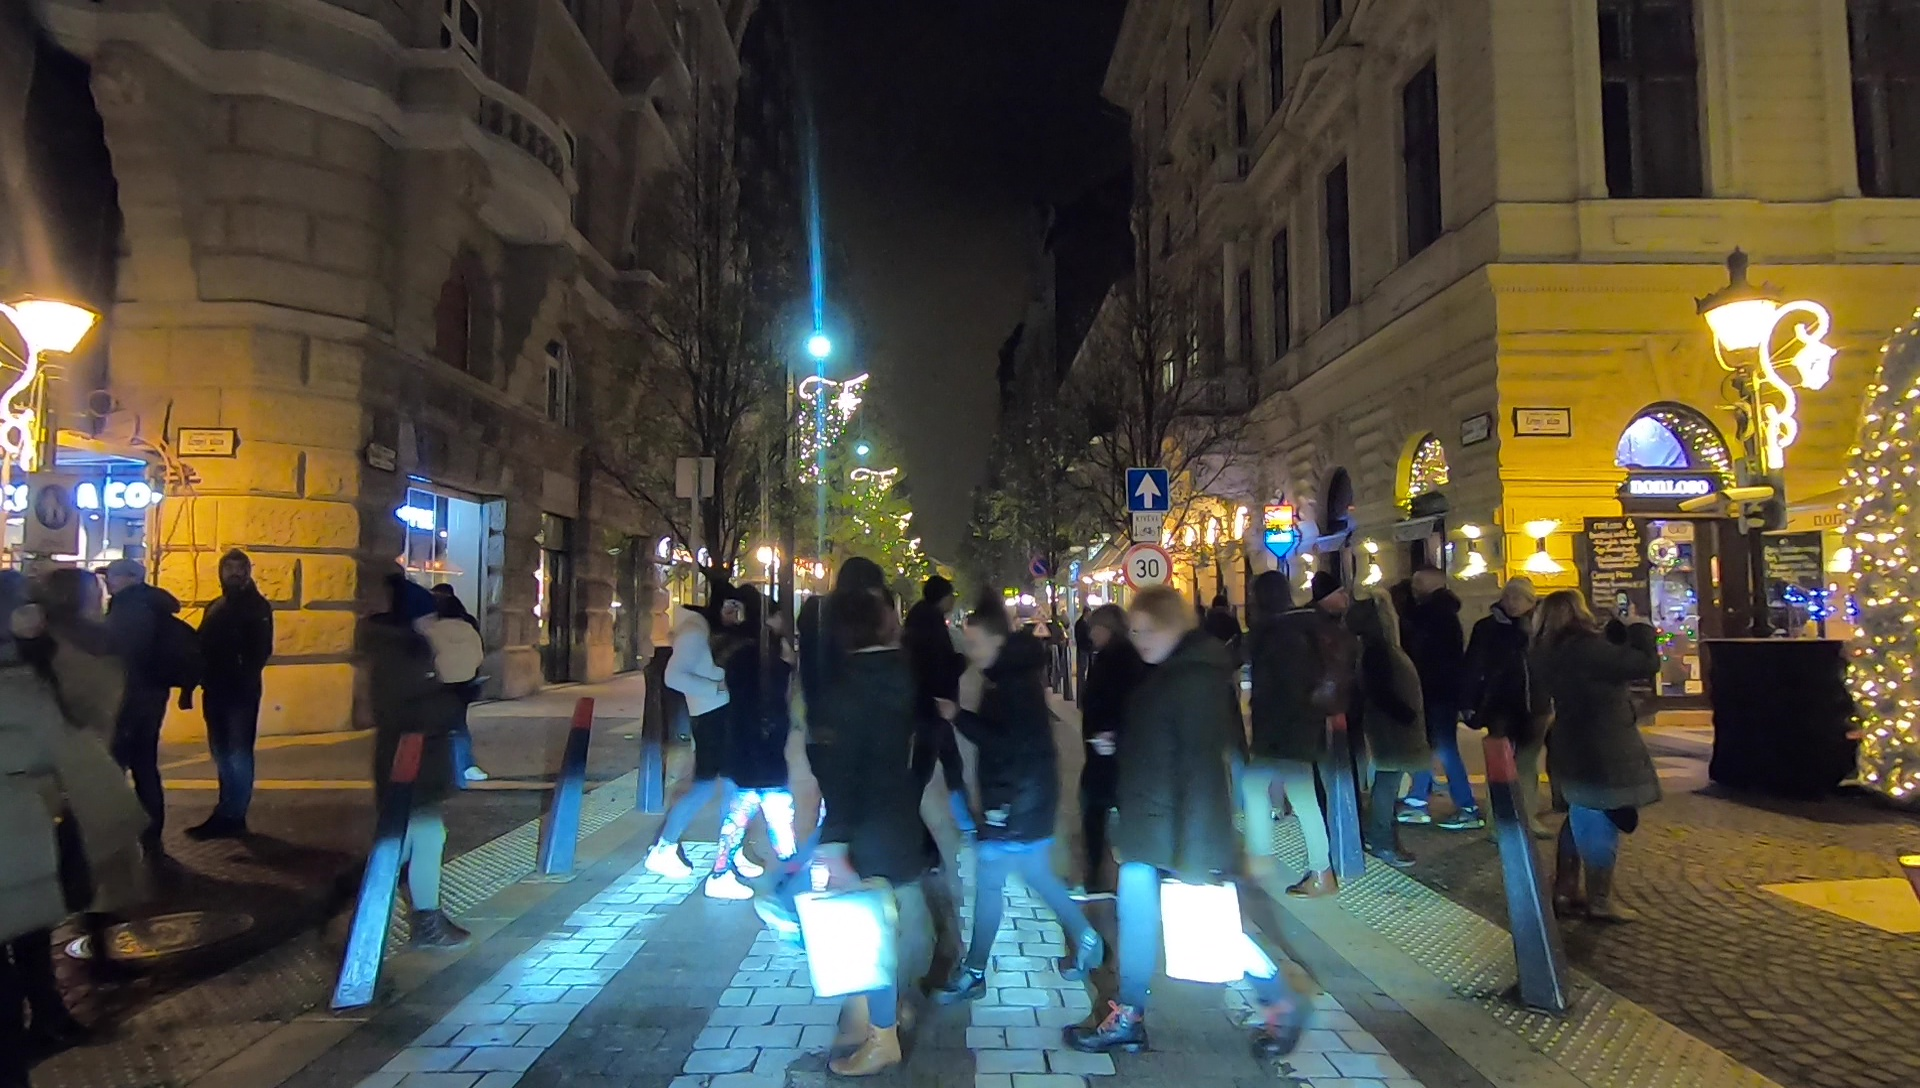person: (1086, 604, 1308, 1054), (934, 600, 1106, 991), (804, 582, 914, 1074), (1538, 593, 1654, 923), (371, 586, 467, 947), (1232, 574, 1334, 906), (692, 596, 808, 873), (658, 610, 765, 882), (39, 571, 121, 911), (101, 565, 195, 858), (1, 575, 56, 999), (197, 554, 275, 830), (1406, 565, 1482, 836), (1351, 593, 1421, 861), (1467, 576, 1543, 817), (421, 582, 493, 787)
